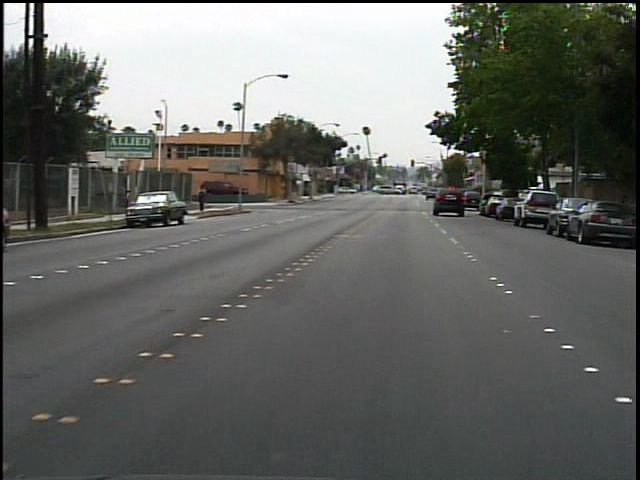person: (200, 182, 215, 216)
